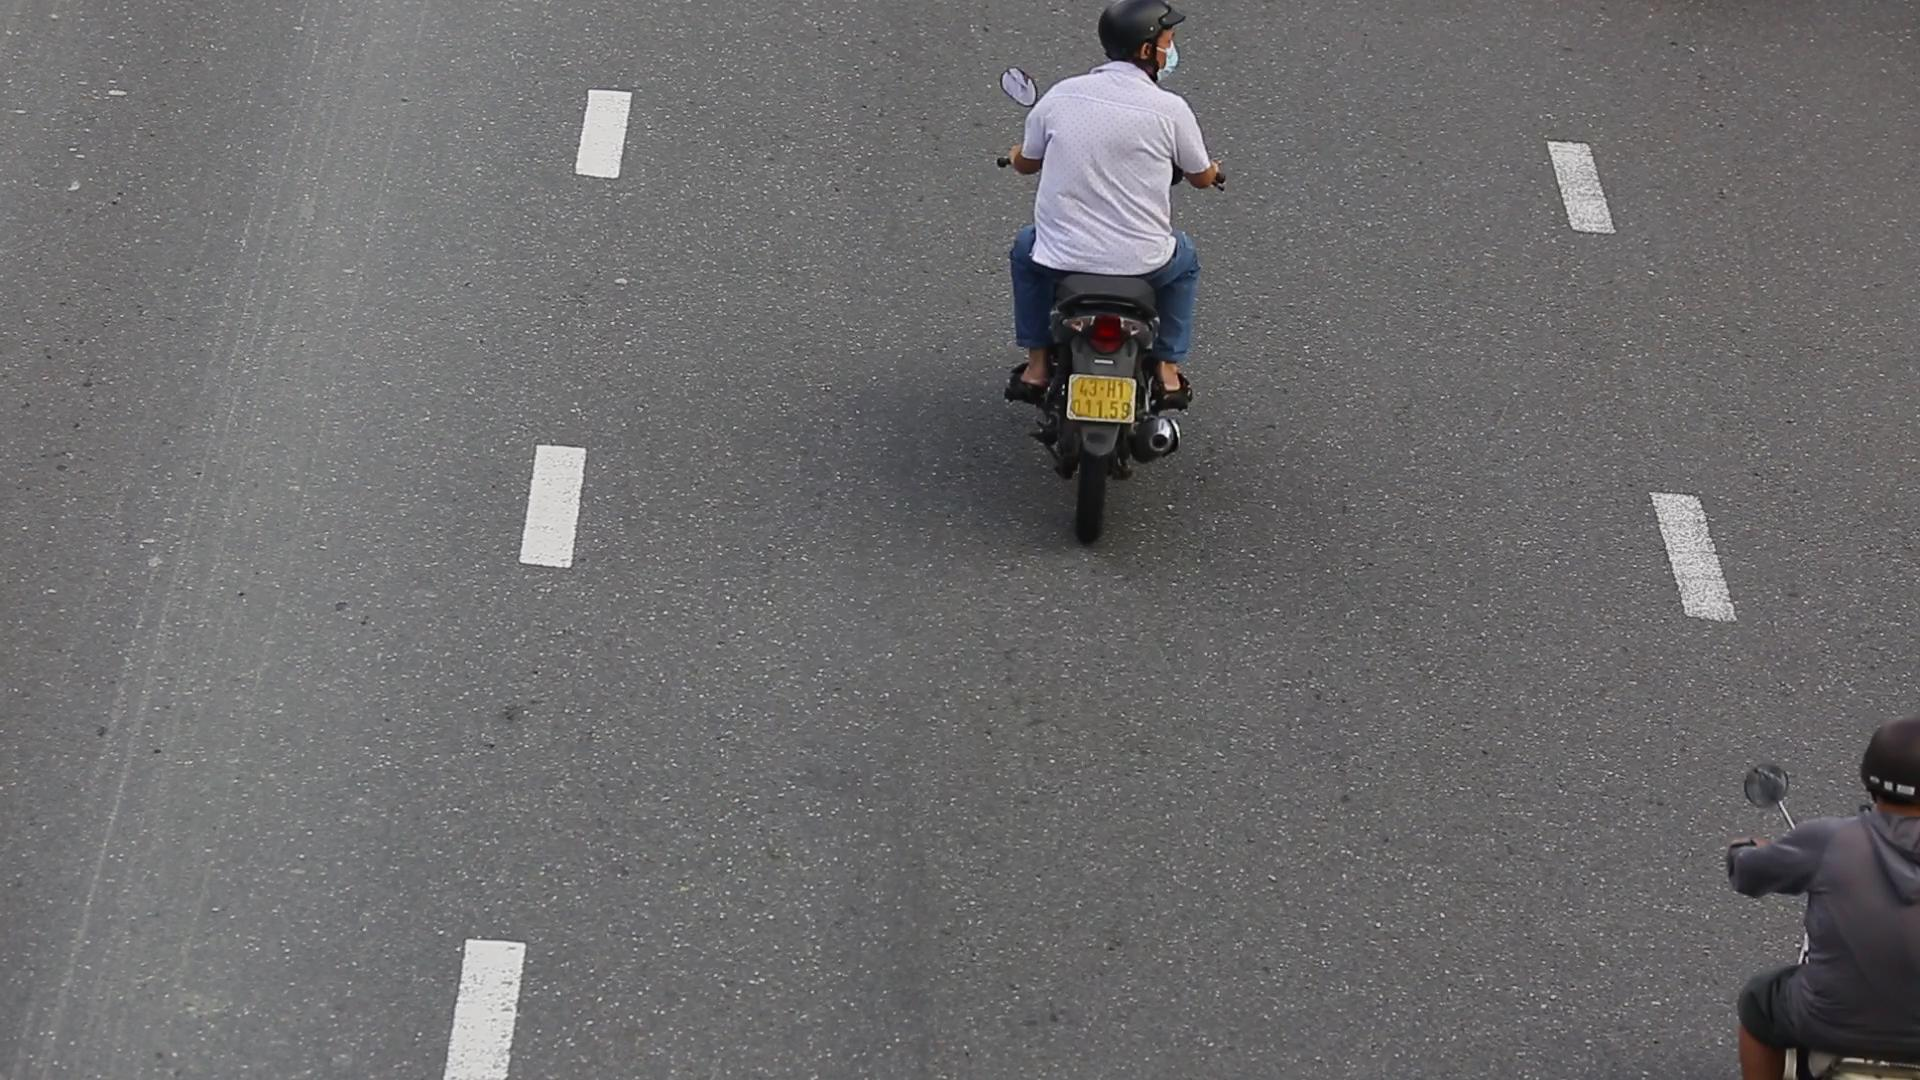motobike: (993, 0, 1247, 564)
